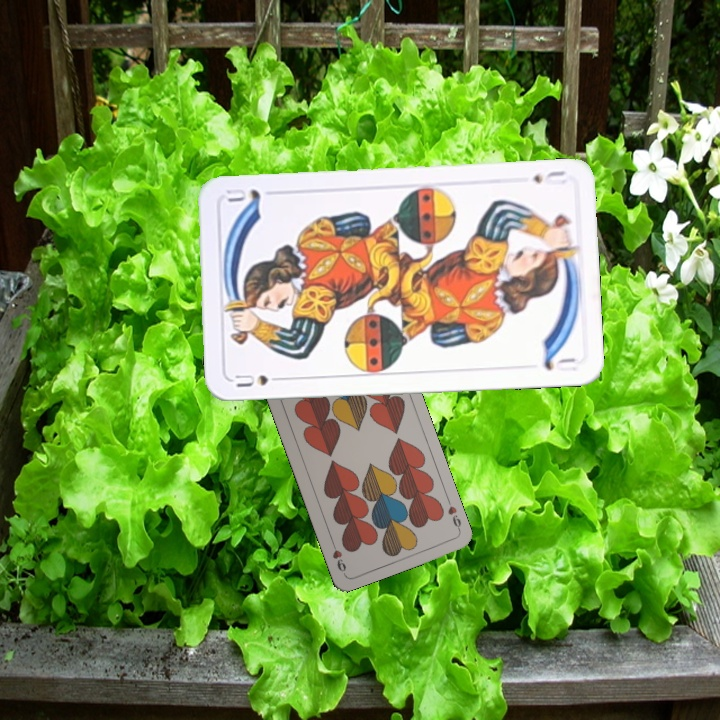H9: (443, 494, 464, 534)
SU: (231, 370, 288, 390), (528, 166, 569, 188)
